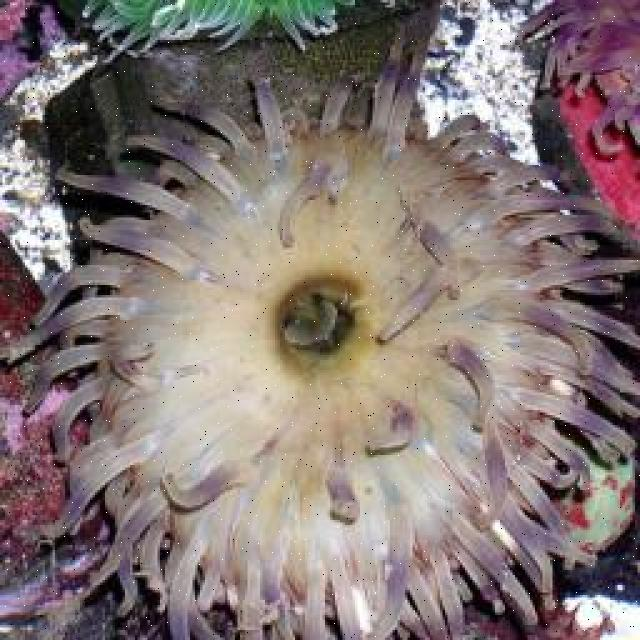reefs: (4, 44, 638, 638), (518, 0, 638, 157), (81, 0, 356, 65)
